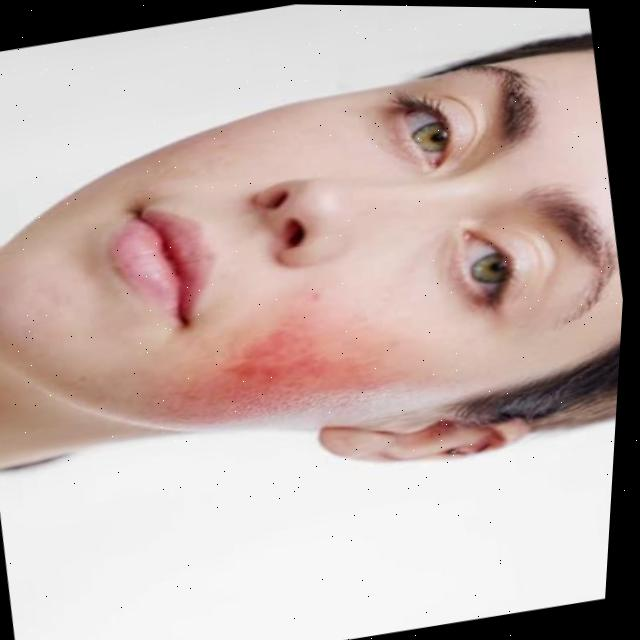Rosacea: (200, 299, 415, 438)
